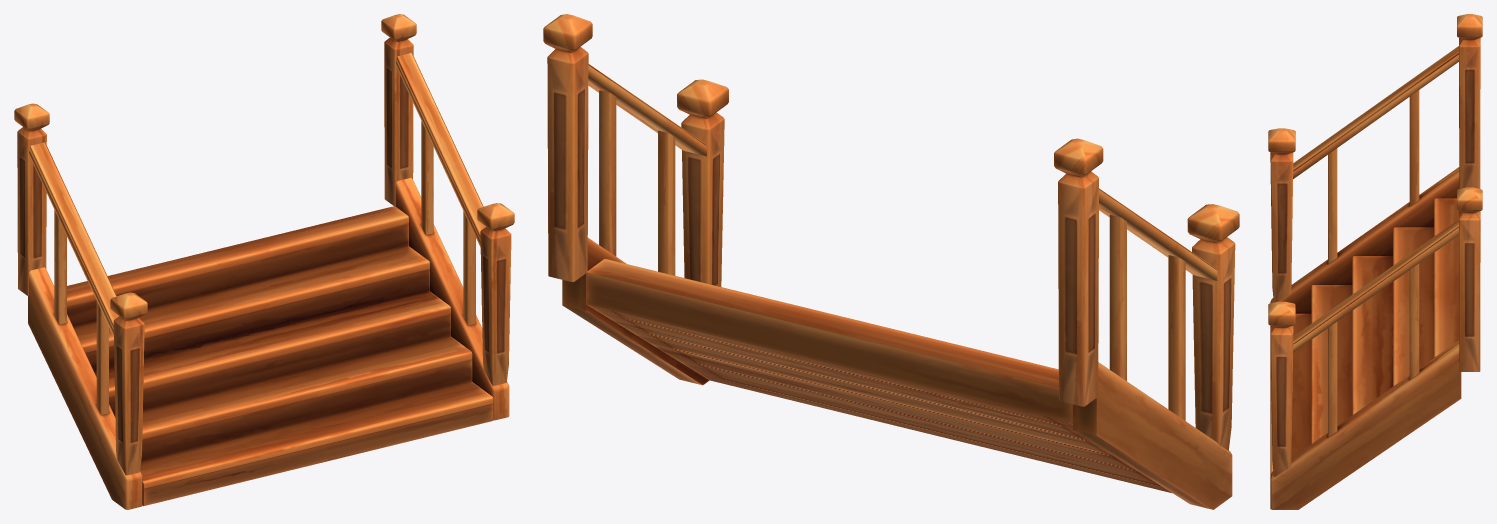
File: PropStairs01TypeC2.FBX
3 views of the same model, side by side, from view 1: azimuth 30°, elevation 25°; view 2: azimuth 150°, elevation 25°; view 3: azimuth 270°, elevation 25° (orthographic). The views are drawn at different scales.
Parts seen in each view (by area): view 1: PropStairs01TypeC2; view 2: PropStairs01TypeC2; view 3: PropStairs01TypeC2.
Boxes of the visible parts, <box> form: PropStairs01TypeC2: <box>14,14,514,509</box>; PropStairs01TypeC2: <box>543,14,1239,509</box>; PropStairs01TypeC2: <box>1268,14,1482,509</box>.
Size of what is drawn, in the model's own units: 2.29 by 1.83 by 1.12.
